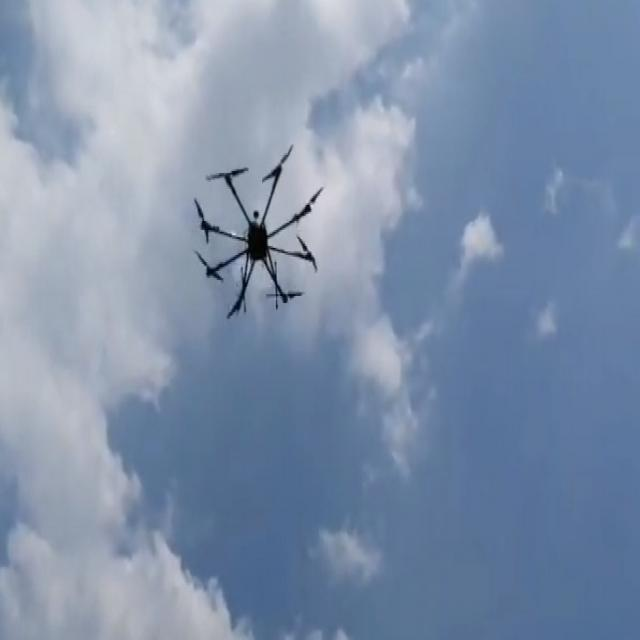drone: (188, 143, 334, 329)
